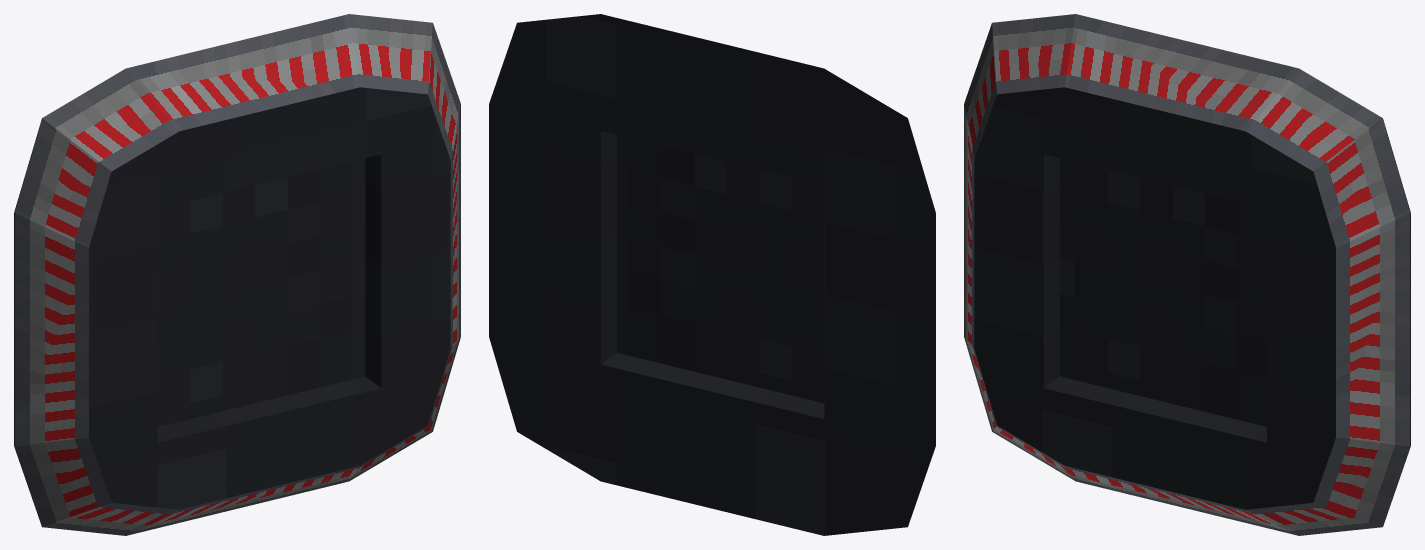
The model's file is lens.obj.
3 renders of one model, left to right at view 1: azimuth 30°, elevation 25°; view 2: azimuth 150°, elevation 25°; view 3: azimuth 330°, elevation 25°, orthographic.
Visible parts, largest first — view 1: Cube_Cube.002; view 2: Cube_Cube.002; view 3: Cube_Cube.002.
Boxes of the visible parts, x1,y1,x2,y2 form: Cube_Cube.002: [14, 14, 460, 535]; Cube_Cube.002: [489, 14, 935, 535]; Cube_Cube.002: [964, 14, 1410, 535].
Bounding box in the file's own units: 0.72 × 0.72 × 0.09.
